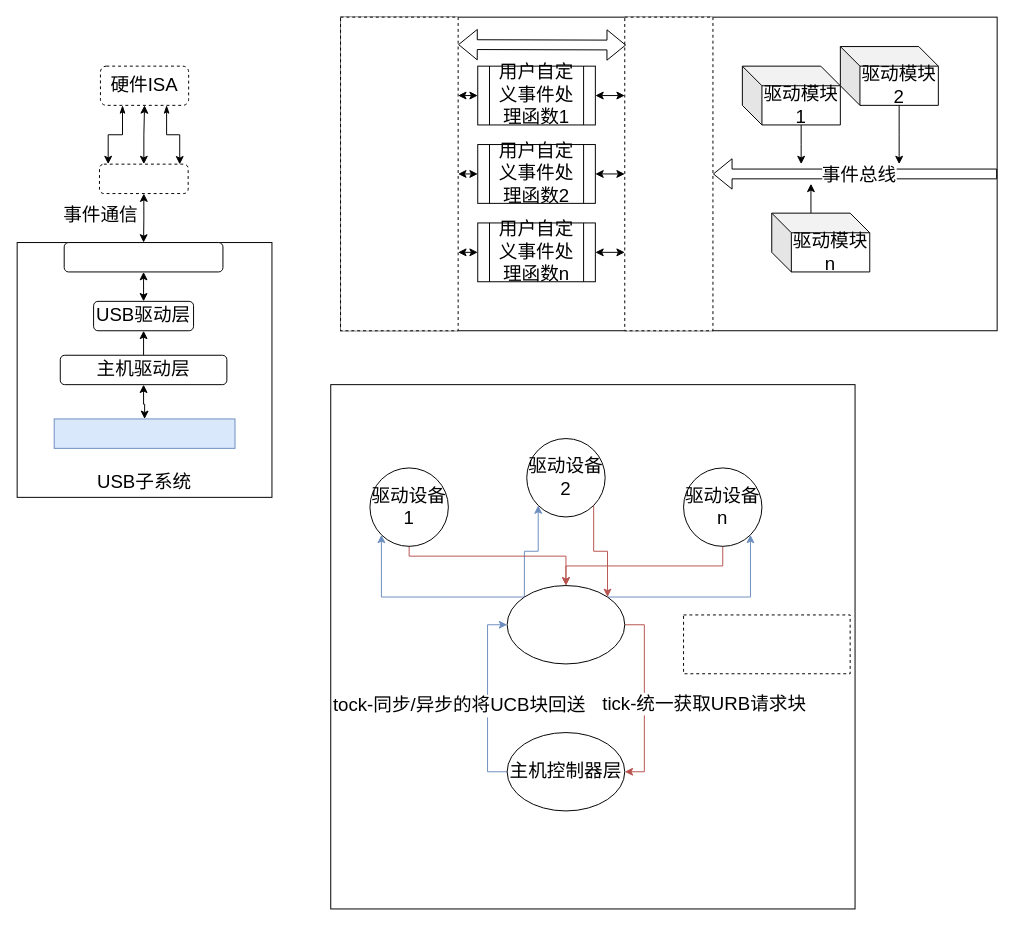
Some shapes in this 1014 by 926 pixel diagram are drawn without their labels. Here are the shapes that lost their labels. From the top down, the box of each, then its label:
(98, 163, 188, 194): 操作系统
(340, 16, 458, 331): 系统内核
(624, 16, 713, 331): 事件系统/OS抽象层
(63, 242, 223, 272): 平台抽象层
(53, 418, 235, 448): USB主机（xhci）
(506, 585, 625, 664): USB层
(683, 614, 850, 674): 红色：发送URB 蓝色：接收UCB
